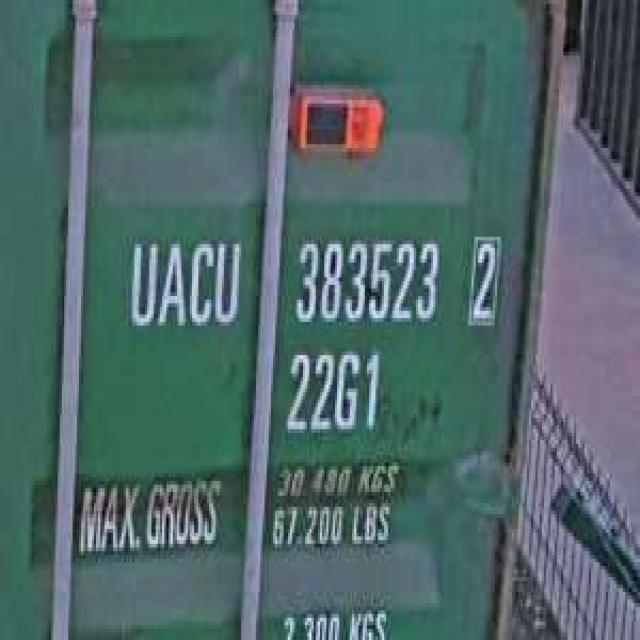dv: (463, 222, 503, 333)
owner: (122, 226, 243, 336)
serial: (286, 226, 441, 333)
size: (279, 340, 384, 440)
